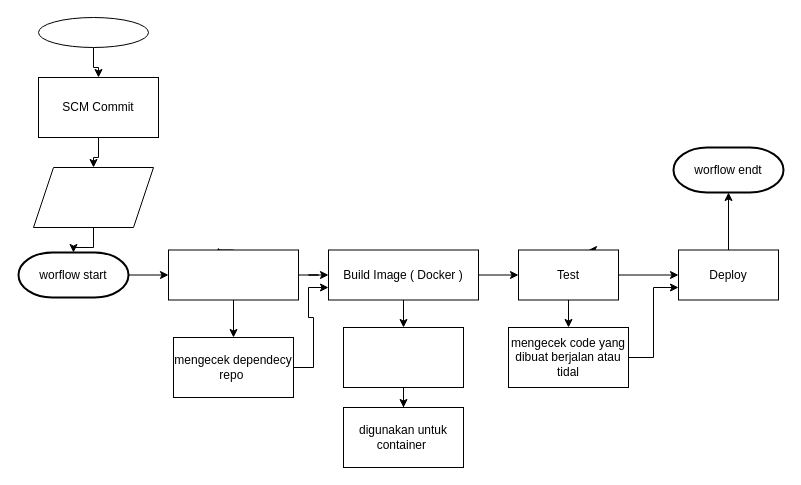
Some shapes in this 801 by 485 pixel diagram are drawn without their labels. Here are the shapes that lost their labels. From the top down, the centre of each, then its label:
the point at 93,32: start
the point at 93,197: repo &branch
the point at 233,274: SCM checkout/clone
the point at 403,357: push ke registry agar bisa digunakan dengan mudah
